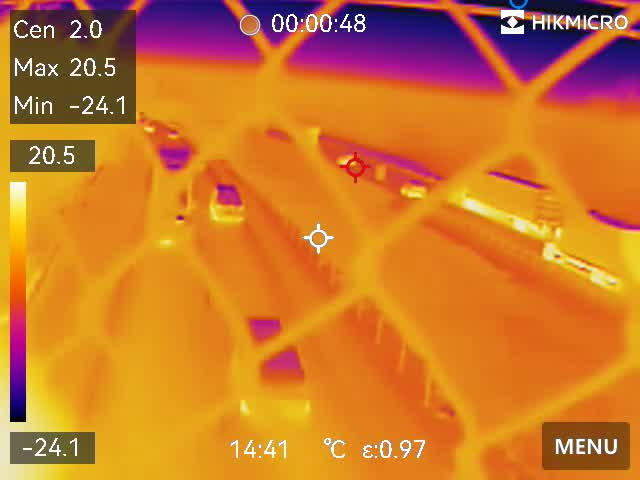heavyTruck: (449, 162, 564, 241), (551, 199, 640, 287), (155, 144, 198, 222)
vehicle: (236, 314, 311, 428), (201, 177, 247, 228), (402, 177, 427, 203)
